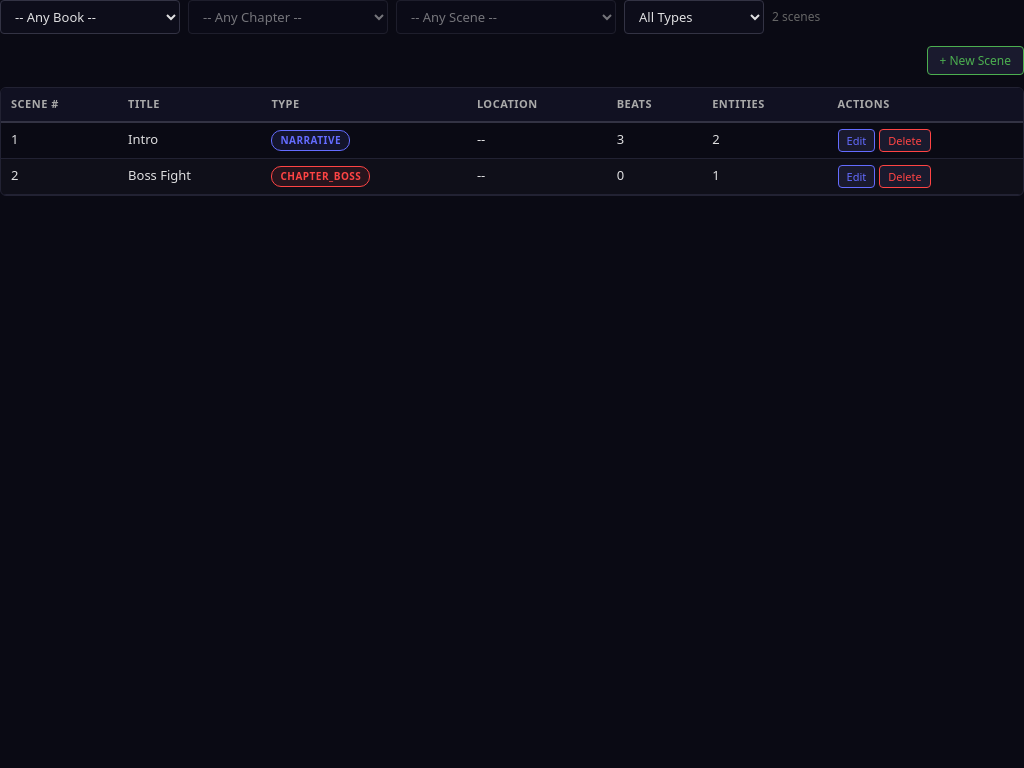
Test case: SceneEditor › boss config section appears for boss scenes
Expected: the text "Boss Fight" is shown, [118,158,261,194]
Note: Edit the boss scene
Click the button "Edit" in the row of "Boss Fight" at (856, 176), box [838,164,875,188]
(page scrolled)
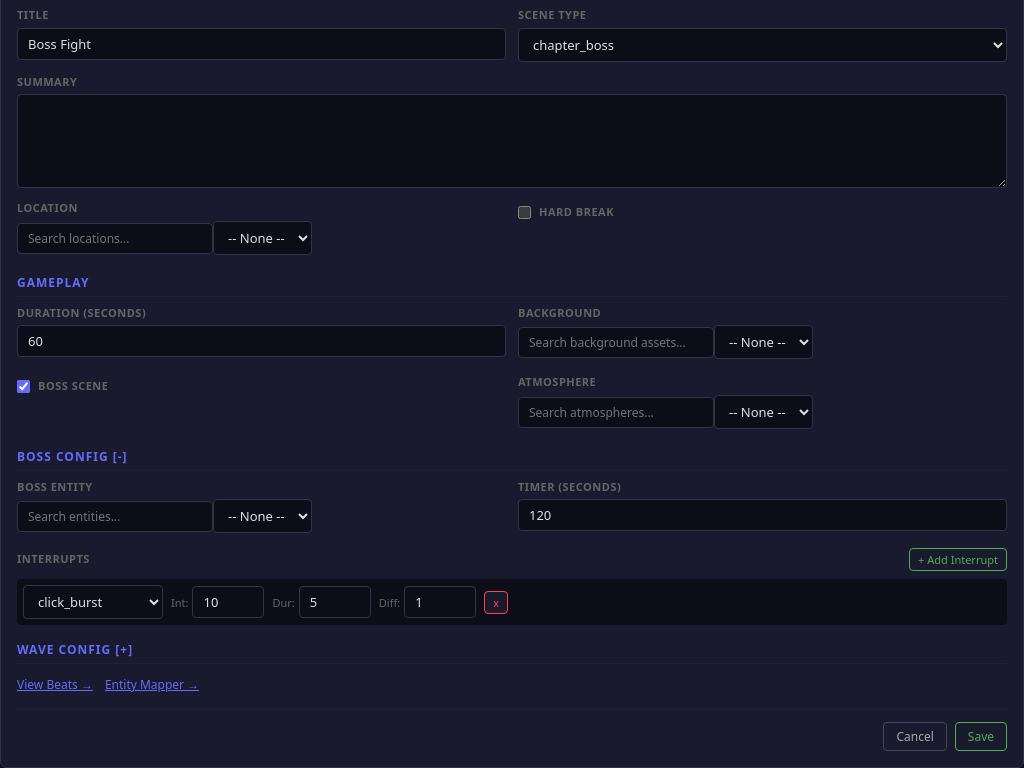
Expected: the text "Boss Config [-]" is shown, [17,448,1007,470]
